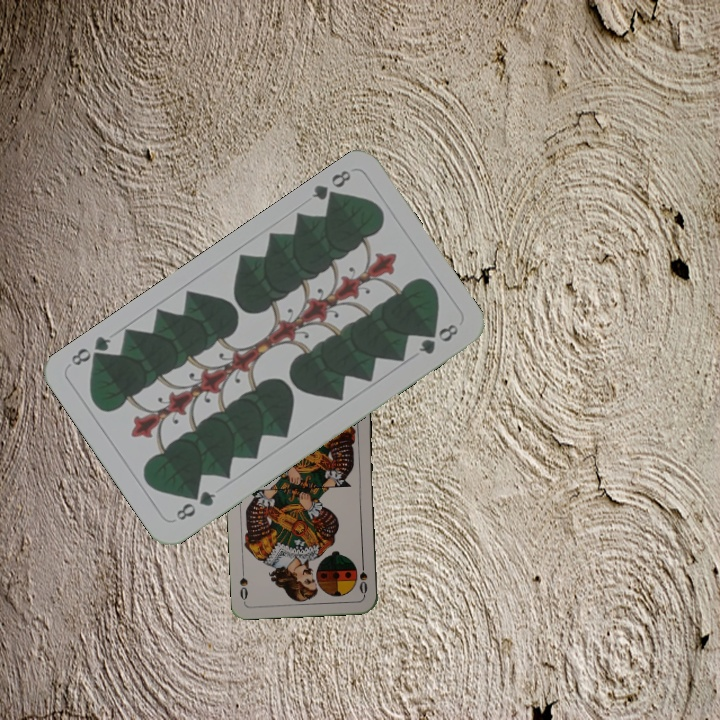G8: (307, 165, 354, 208), (171, 486, 219, 524)
SO: (355, 557, 370, 598)
